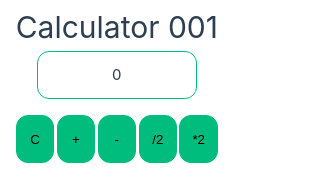
Test case: Calculator Module › / operator
Expected: the text with id "result" reads "0", [112,65,122,84]
Click the button with id "sum".
click(76, 139)  # box [57,115,95,163]
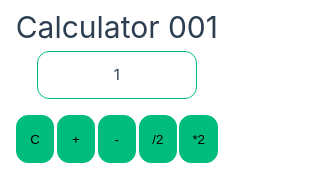
Click the button with id "divide".
click(158, 139)  # box [138,115,177,163]
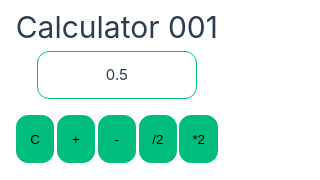
Expected: the text with id "result" reads "0.5", [106,65,128,84]
